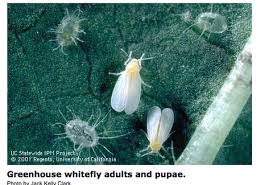Tobacco Whitefly: (99, 49, 152, 118), (145, 100, 178, 158)
